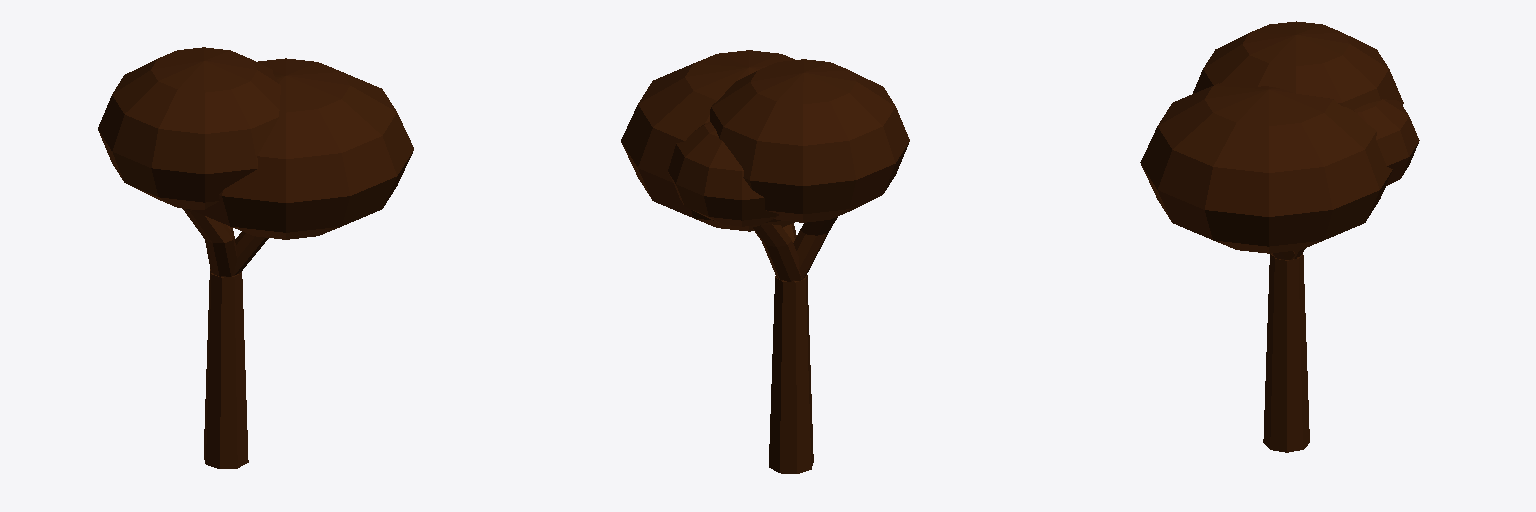
The model's file is tree2.obj.
3 views of the same model, side by side, from view 1: azimuth 30°, elevation 25°; view 2: azimuth 150°, elevation 25°; view 3: azimuth 270°, elevation 25° (orthographic).
Parts seen in each view (by area): view 1: tron; view 2: tron; view 3: tron.
Part boxes in pixels (x1,y1,x2,y2): tron: (98,47,413,468); tron: (621,50,909,473); tron: (1140,21,1419,452).
Bounding box in the file's own units: 48.46 × 68.22 × 43.2.